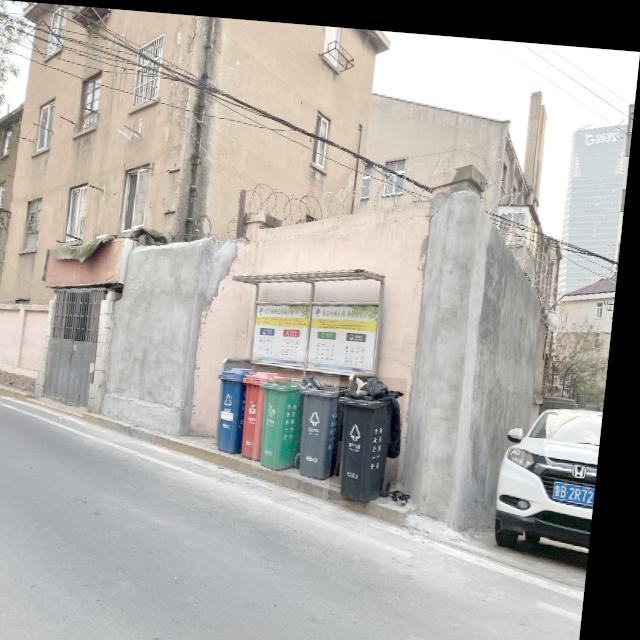garbage: (398, 481, 421, 498)
garbage_bin: (242, 364, 300, 458), (261, 370, 315, 466), (219, 360, 263, 450)
overflow: (338, 367, 415, 497), (300, 369, 358, 474)
